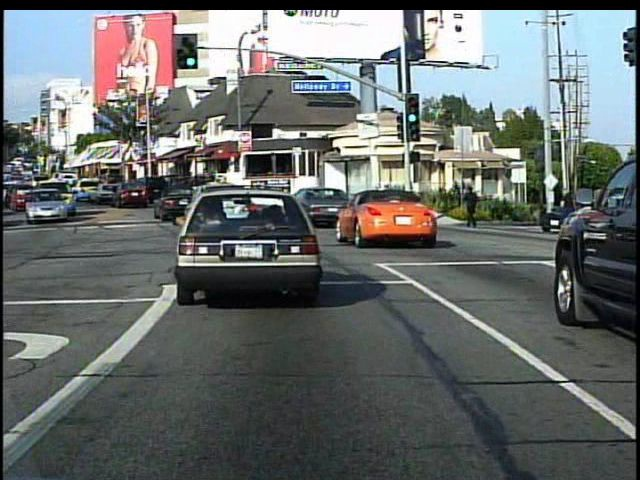person: (553, 183, 575, 242), (460, 182, 482, 230)
